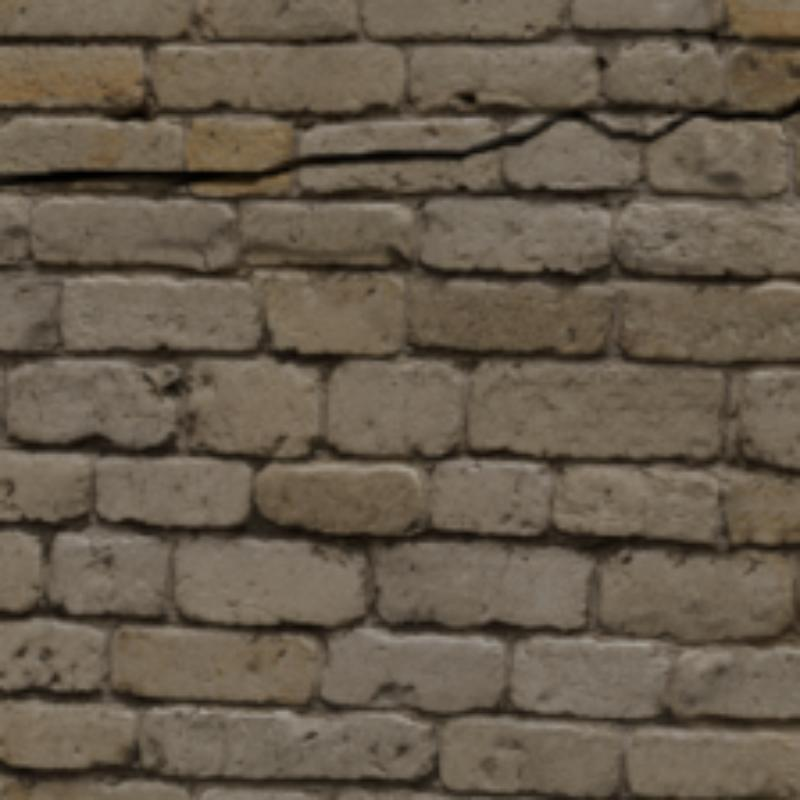crack: (0, 100, 796, 182)
